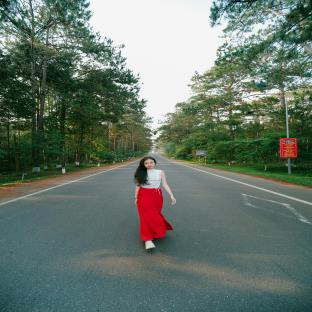Human: (134, 156, 176, 249)
